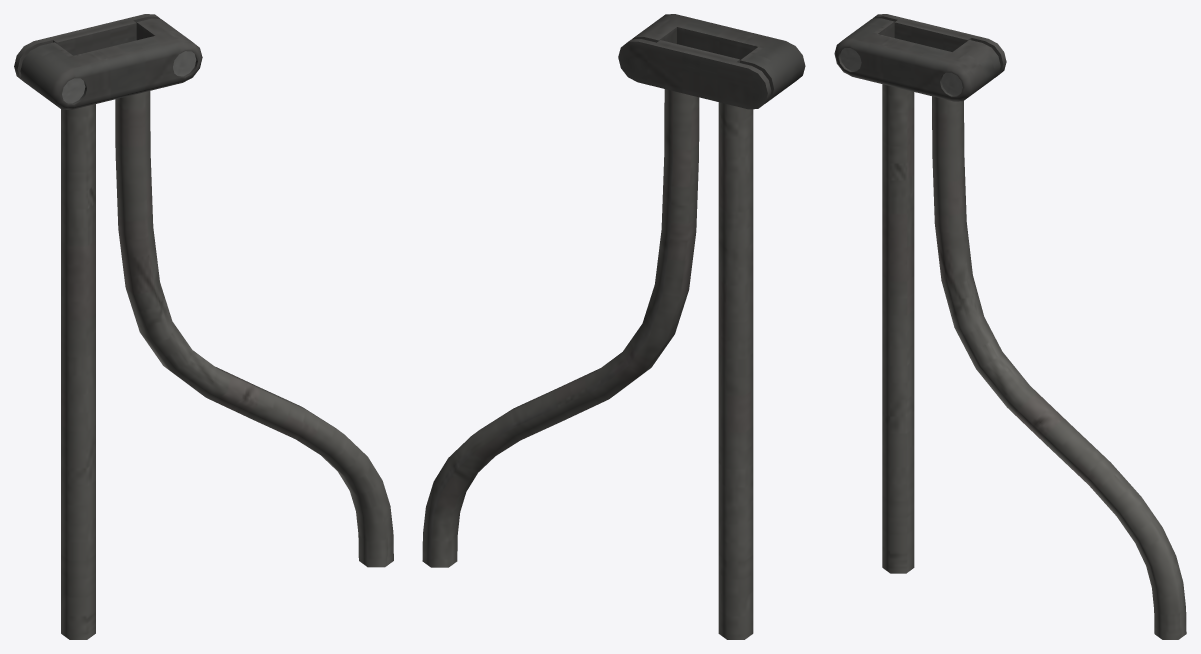
Rendered from cable_to_double_3.gltf.
3 renders of one model, left to right at view 1: azimuth 30°, elevation 25°; view 2: azimuth 150°, elevation 25°; view 3: azimuth 330°, elevation 25°, orthographic. The views are drawn at different scales.
Visible parts, largest first — view 1: cable_to_double_3; view 2: cable_to_double_3; view 3: cable_to_double_3.
Part boxes in pixels (x1,y1,x2,y2): cable_to_double_3: (14,14,393,639); cable_to_double_3: (422,14,805,639); cable_to_double_3: (834,14,1186,639).
Size of the model in its own units: 0.1327 by 0.2073 by 0.0259.
1 material, 1 textured.
